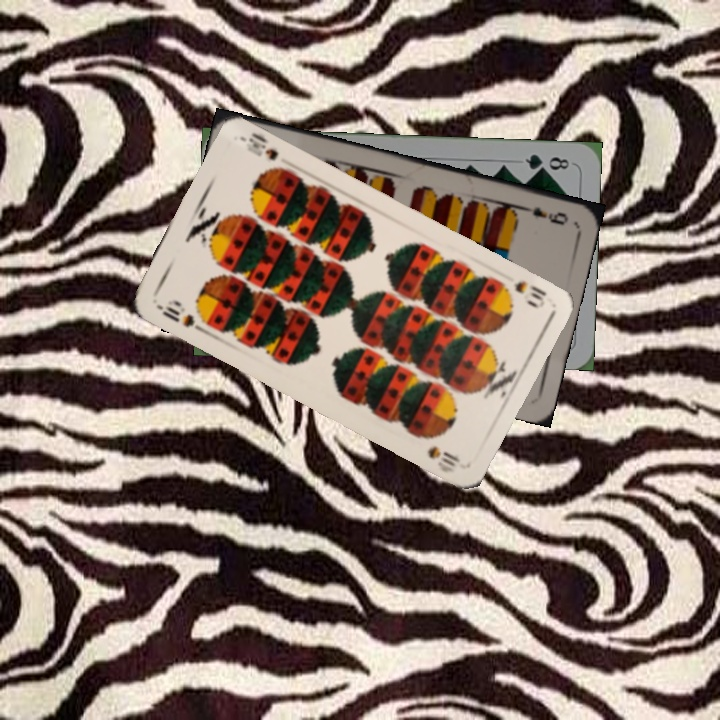E9: (516, 202, 571, 228)
G8: (521, 150, 572, 174)
S10: (151, 296, 206, 334), (494, 276, 550, 311)
